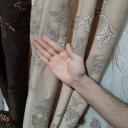OpenPalm: (30, 35, 90, 91)
